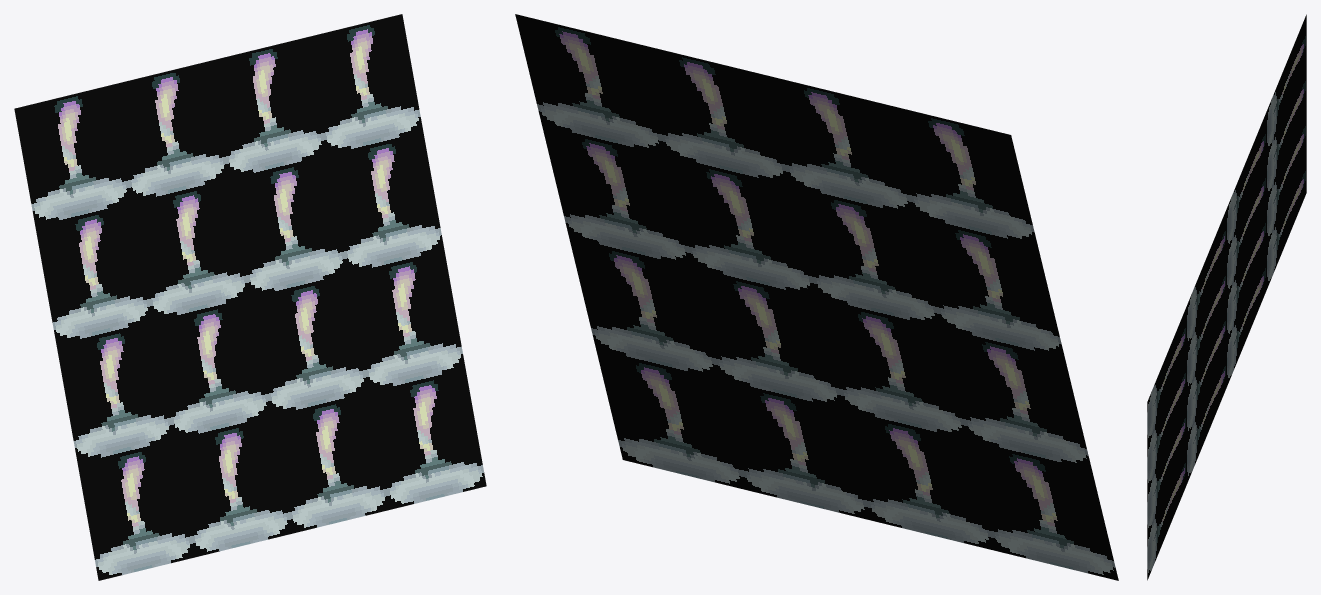
The model's file is 0511kinoko_c02.gltf.
3 views of the same model, side by side, from view 1: azimuth 30°, elevation 25°; view 2: azimuth 150°, elevation 25°; view 3: azimuth 270°, elevation 25° (orthographic). The views are drawn at different scales.
Parts seen in each view (by area): view 1: 0511kinoko_c02; view 2: 0511kinoko_c02; view 3: 0511kinoko_c02.
Part boxes in pixels (x1,y1,x2,y2): 0511kinoko_c02: [14, 14, 486, 580]; 0511kinoko_c02: [515, 14, 1118, 580]; 0511kinoko_c02: [1147, 14, 1306, 580].
Bounding box in the file's own units: 0.7314 × 0.7395 × 0.2751.
1 material, 1 textured.
